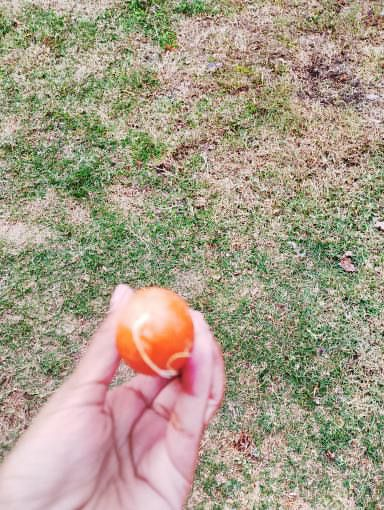carrot: (113, 286, 195, 377)
